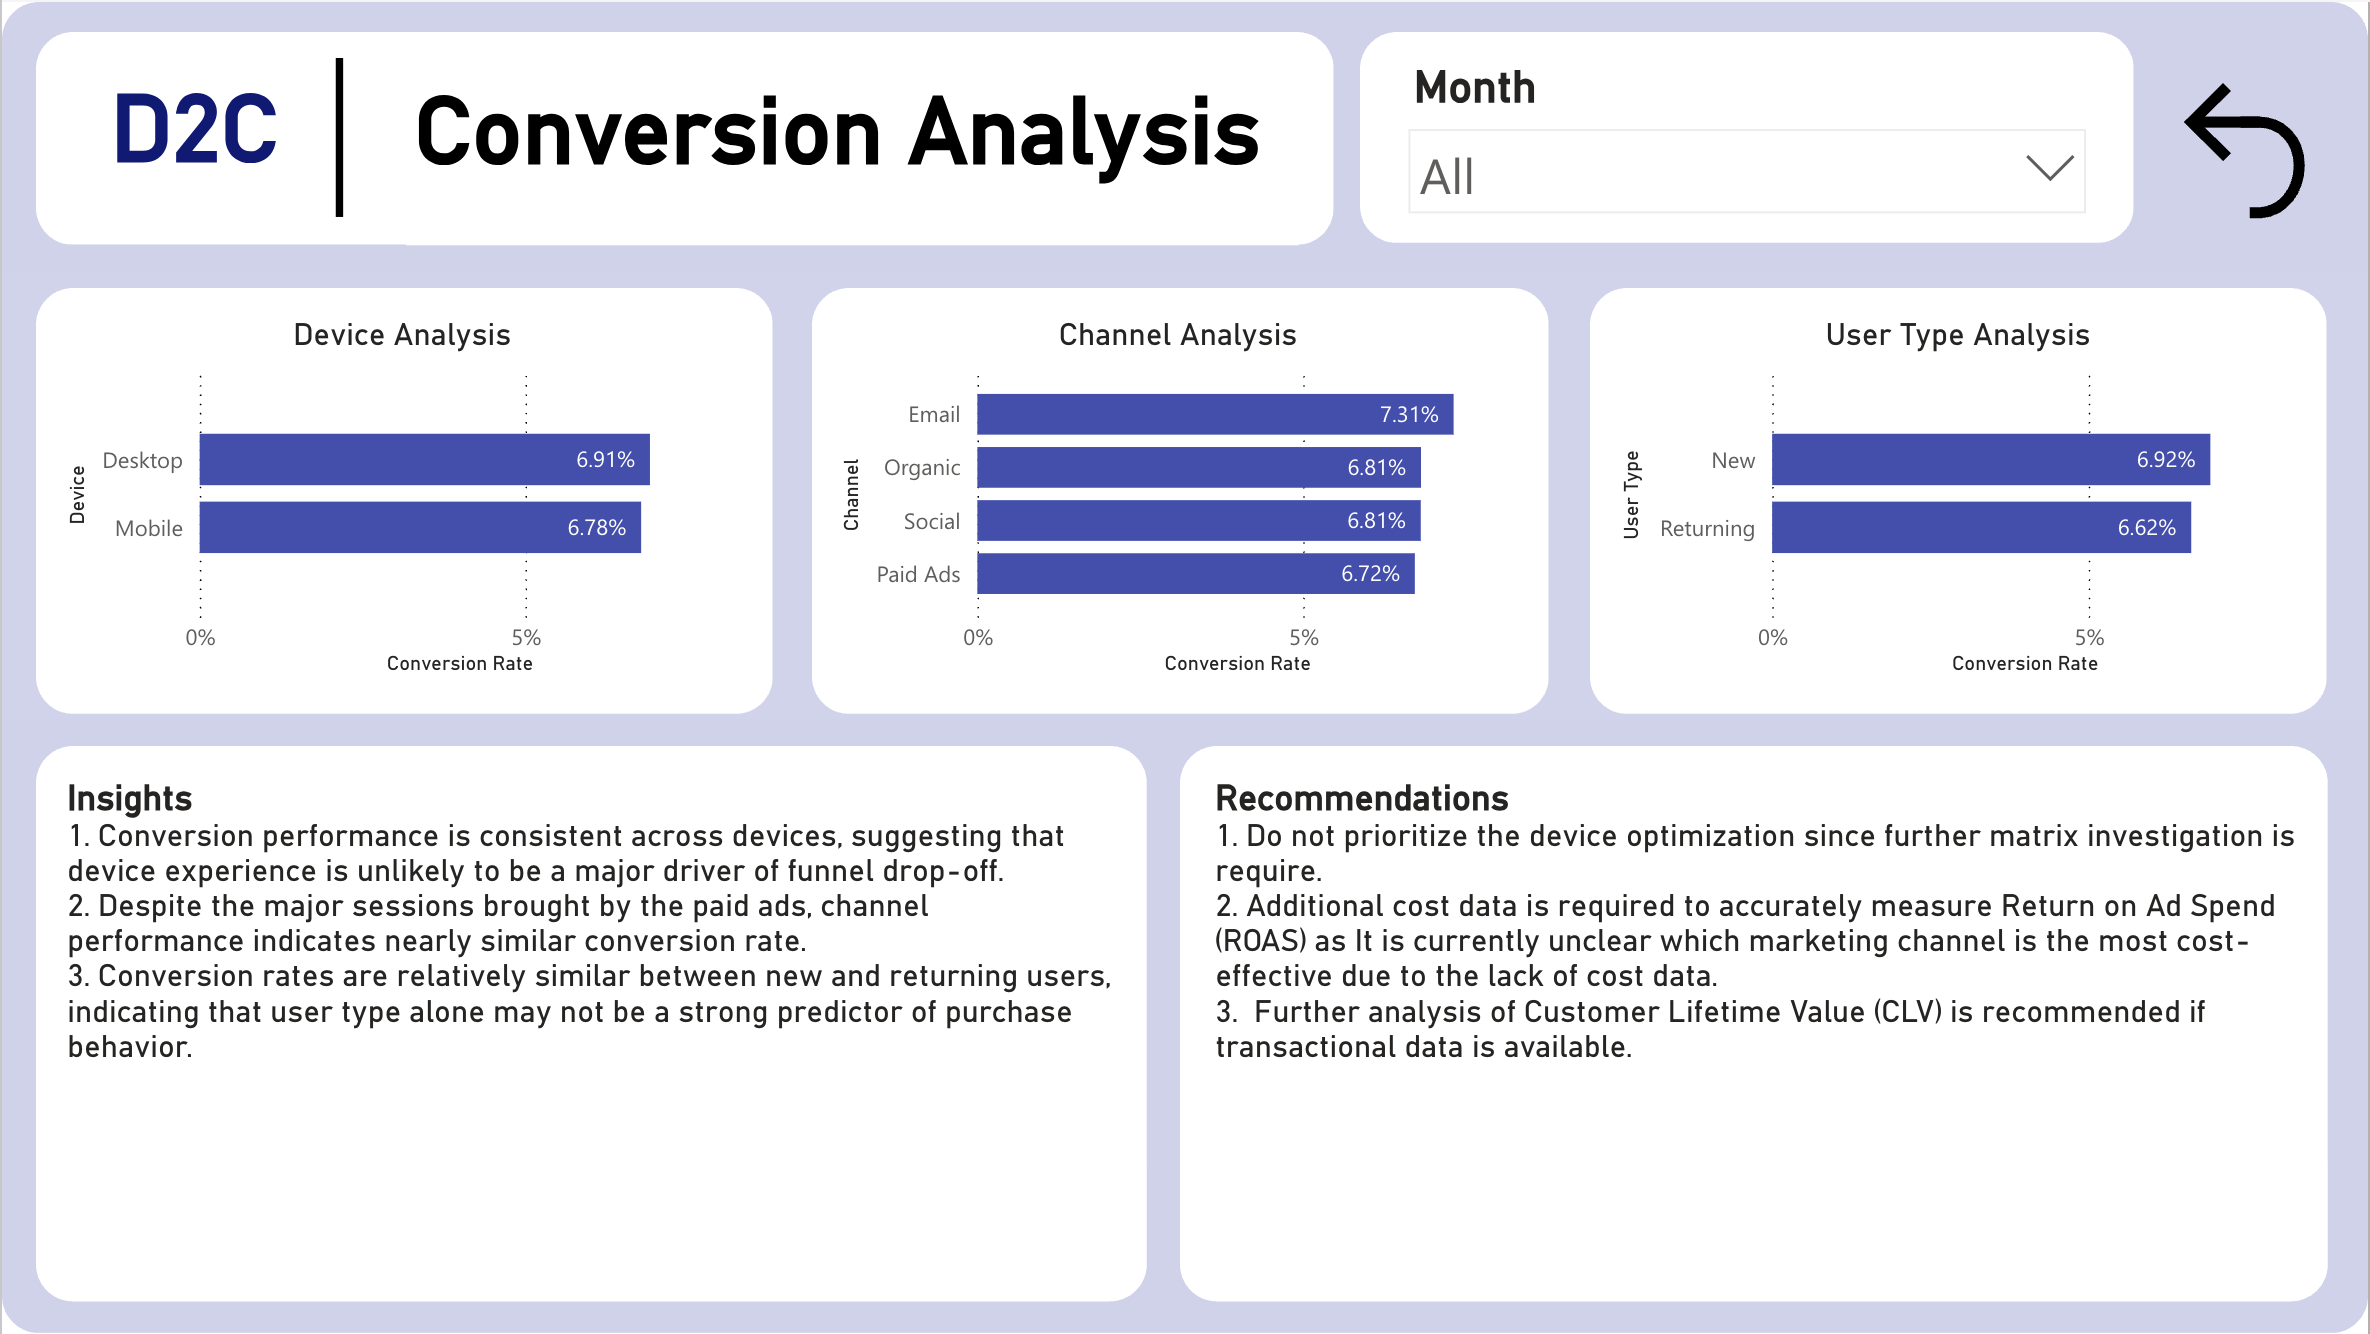

Layout of this report page (visuals, bound fields, positions):
{"tool":"powerbi","page":{"name":"Conversion Analysis","canvas":[1280,720],"ordinal":1},"visuals":[{"type":"shape","box":[0,0,1280,720.1],"z":0},{"type":"shape","box":[18.1,15.8,702.1,115.1],"z":1000},{"type":"textbox","box":[54.1,40.1,128.2,90.1],"z":2000},{"type":"shape","box":[138.2,30,88.1,86.1],"z":3000},{"type":"textbox","box":[219,40.6,483.1,90.3],"z":4000},{"type":"shape","box":[734.7,16.5,341.9,113.1],"z":12000},{"type":"slicer","fields":{"Values":["Funnel.month"]},"box":[747.4,30.5,311.4,83.9],"z":14000},{"type":"shape","box":[859.3,153.8,399.1,282.2],"z":14006},{"type":"shape","box":[438.5,153.8,399.1,282.2],"z":14007},{"type":"shape","box":[17.8,153.8,399.1,282.2],"z":14008},{"type":"clusteredBarChart","title":"Device Analysis","fields":{"Category":["Funnel.device"],"Y":["Funnel.overall_conversion_rate%"]},"box":[30.5,172.9,372.4,254.2],"z":14009},{"type":"clusteredBarChart","title":"Channel Analysis","fields":{"Category":["Funnel.channel"],"Y":["Funnel.overall_conversion_rate%"]},"box":[448.7,172.9,375,254.2],"z":14010},{"type":"clusteredBarChart","title":"User Type Analysis","fields":{"Category":["Funnel.user_type"],"Y":["Funnel.overall_conversion_rate%"]},"box":[872,172.9,373.7,254.2],"z":14011},{"type":"shape","box":[17.8,457.6,601.2,245.3],"z":14013},{"type":"shape","box":[636.8,457.6,621.6,245.3],"z":14015},{"type":"textbox","box":[650.8,466.5,594.9,218.6],"z":14016},{"type":"textbox","box":[30.5,466.5,574.5,218.6],"z":14017},{"type":"actionButton","box":[1173.9,29.3,81.3,92.6],"z":14018},{"type":"actionButton","box":[1093.1,29.2,81.4,92.8],"z":14019}]}

Visuals, with their boxes in screenshot pixels (x1, y1, x2, y2), scaled from the page's 1280x720 canvas onto the 2370x1334 screenshot:
shape: box(0, 0, 2369, 1333)
shape: box(34, 29, 1333, 243)
textbox: box(100, 74, 338, 241)
shape: box(256, 56, 419, 215)
textbox: box(405, 75, 1300, 243)
shape: box(1360, 31, 1993, 240)
slicer - Funnel.month: box(1384, 57, 1960, 212)
shape: box(1591, 285, 2330, 808)
shape: box(812, 285, 1551, 808)
shape: box(33, 285, 772, 808)
"Device Analysis" clusteredBarChart: box(56, 320, 746, 791)
"Channel Analysis" clusteredBarChart: box(831, 320, 1525, 791)
"User Type Analysis" clusteredBarChart: box(1615, 320, 2306, 791)
shape: box(33, 848, 1146, 1302)
shape: box(1179, 848, 2330, 1302)
textbox: box(1205, 864, 2306, 1269)
textbox: box(56, 864, 1120, 1269)
actionButton: box(2174, 54, 2324, 226)
actionButton: box(2024, 54, 2175, 226)
